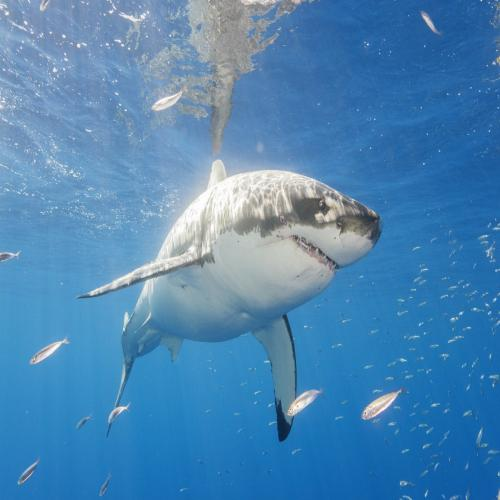shark-endangered: (97, 160, 386, 362)
